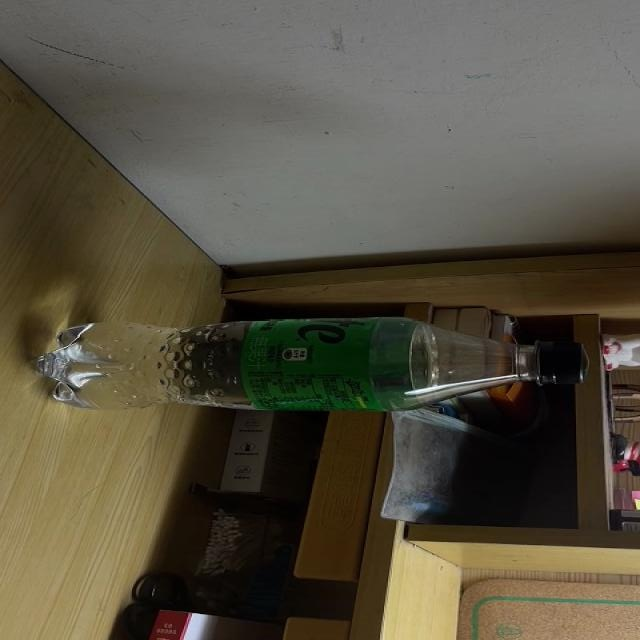Sprite: (36, 319, 586, 409)
